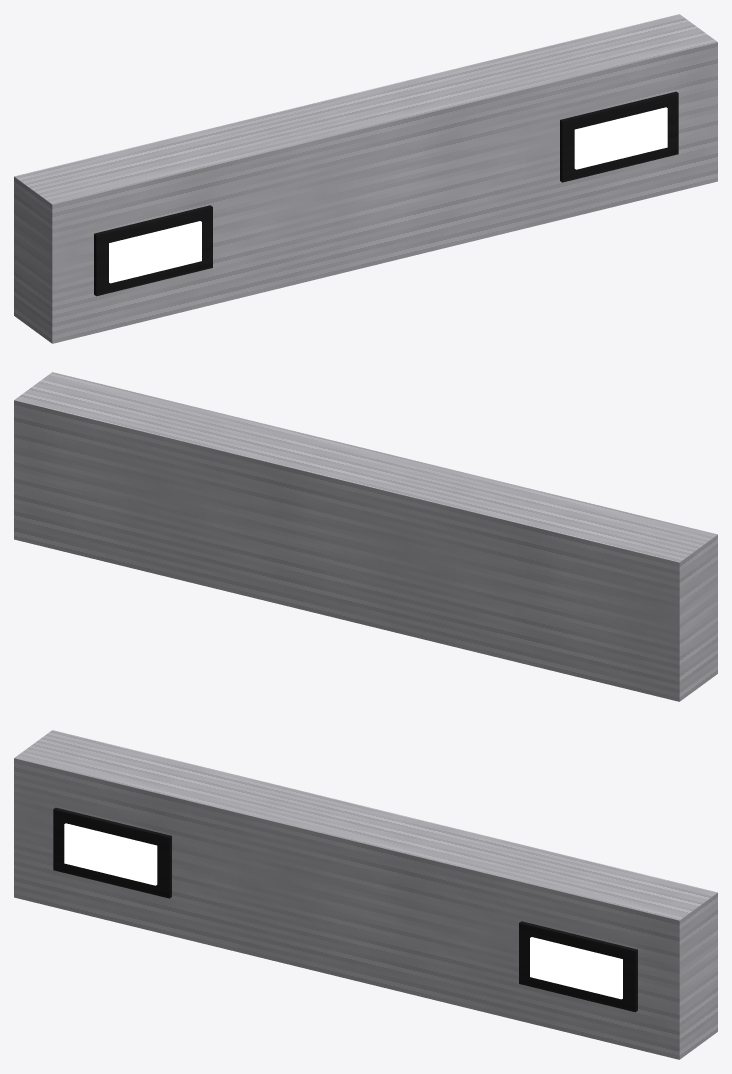
File: farois_aux_fabrica.glb
3 views of the same model, one above another, from view 1: azimuth 30°, elevation 25°; view 2: azimuth 150°, elevation 25°; view 3: azimuth 330°, elevation 25° (orthographic).
Visible parts, largest first — view 1: farois_aux_fabrica; view 2: farois_aux_fabrica; view 3: farois_aux_fabrica.
Boxes of the visible parts, bbox=[...] form: farois_aux_fabrica: bbox=[14, 14, 717, 343]; farois_aux_fabrica: bbox=[14, 372, 717, 701]; farois_aux_fabrica: bbox=[14, 730, 717, 1059].
Bounding box in the file's own units: 0.8 × 0.16 × 0.088.
2 materials, 2 textured.
